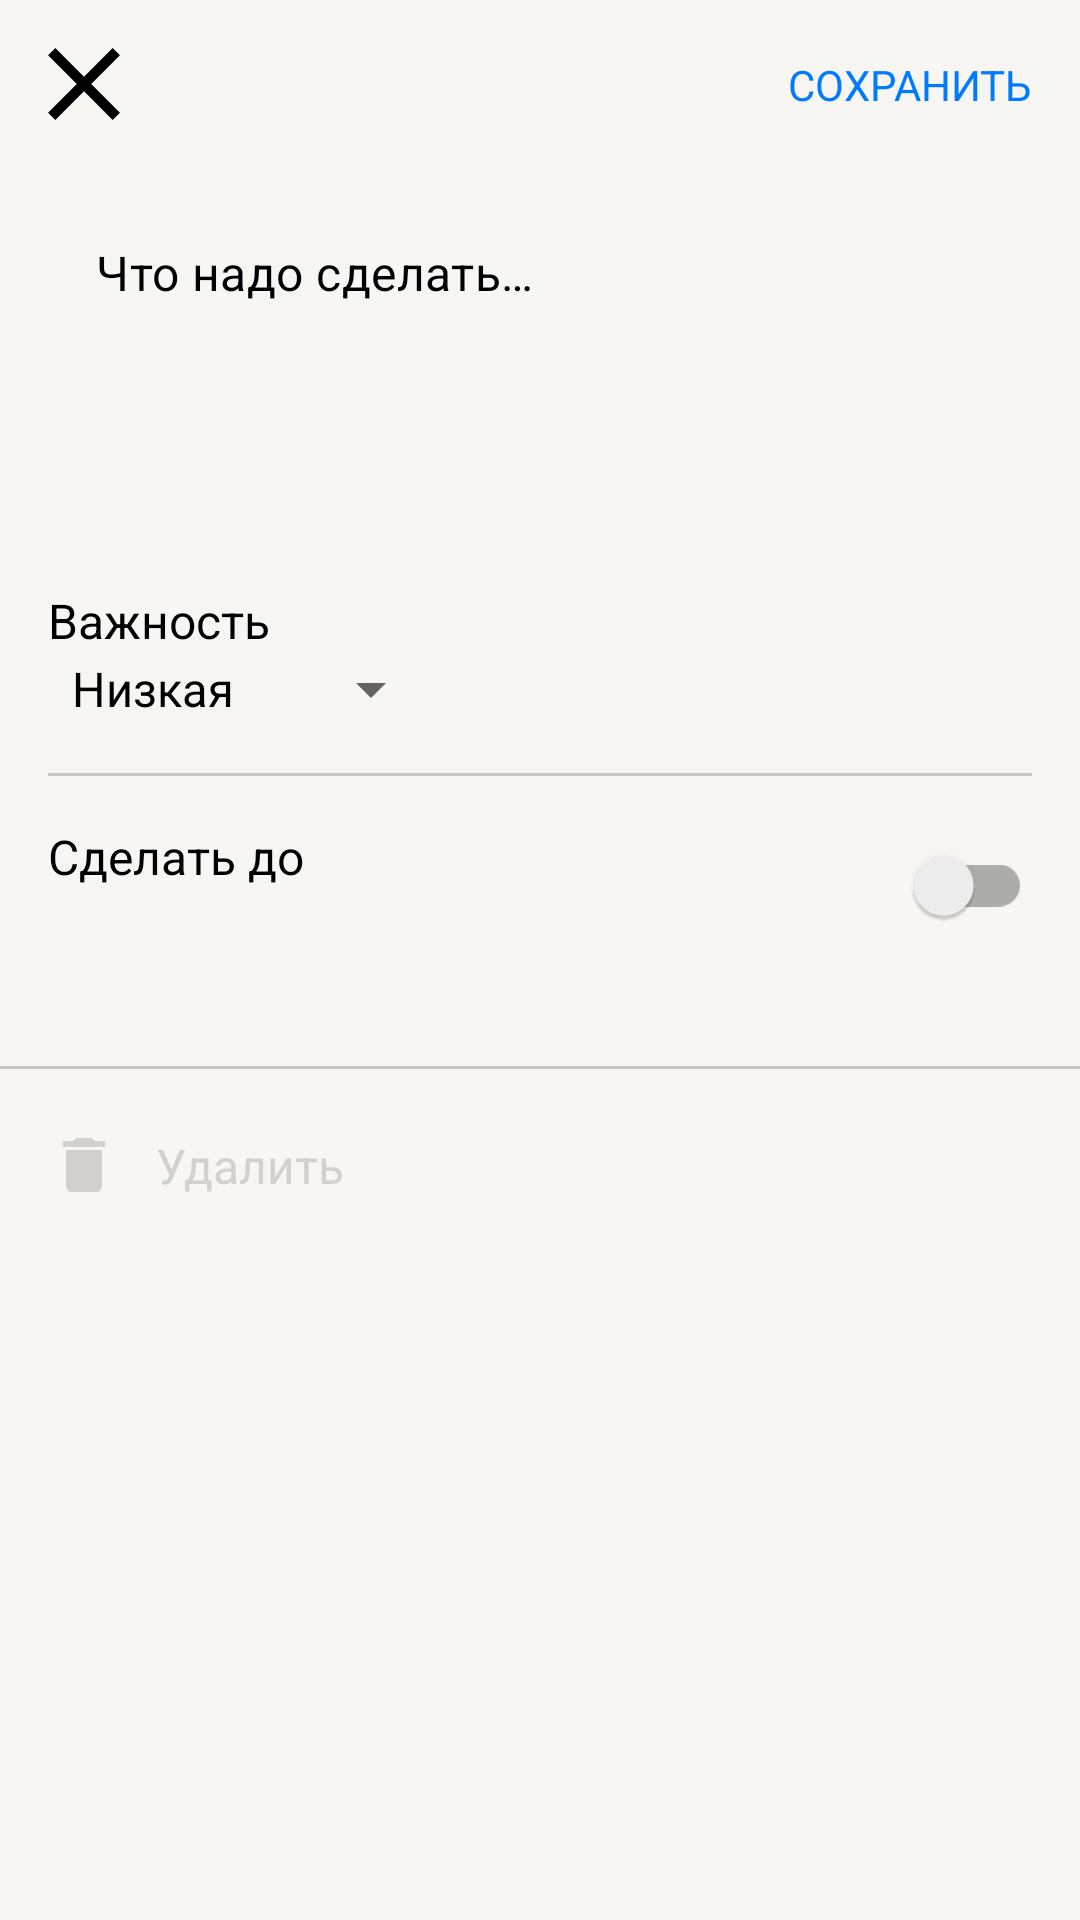

Where icons sit on this 1080w x 1920h app screen, as bbox(x1, y1, x2, y2):
close: bbox(48, 48, 120, 120)
